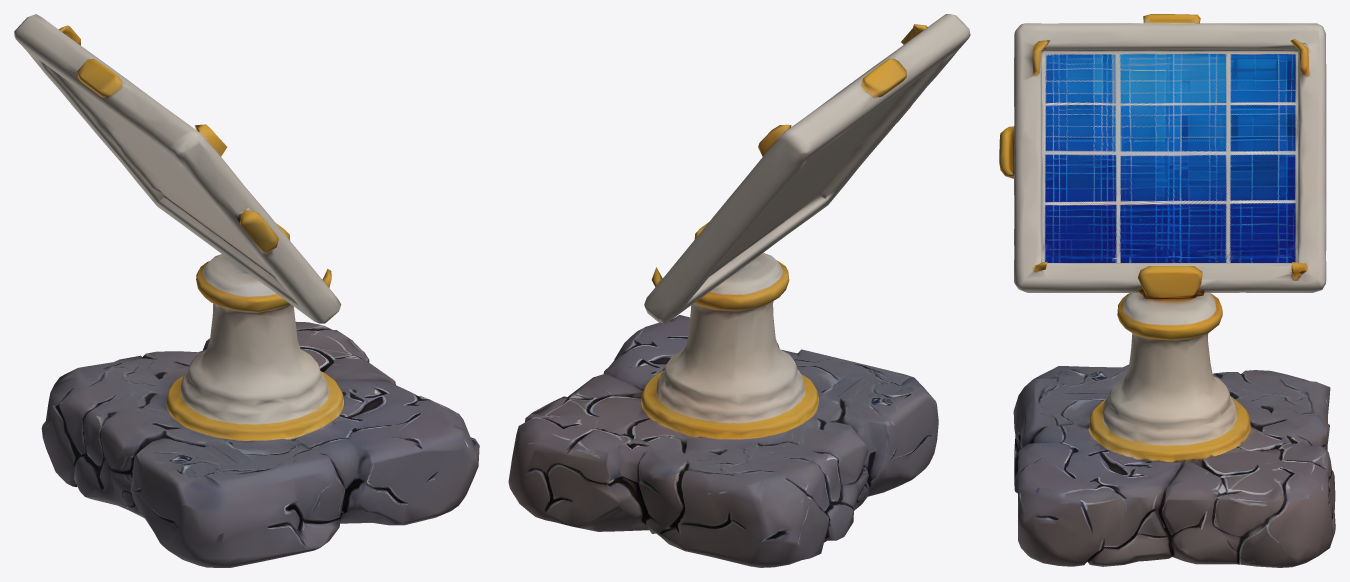
File: solar-panel-v2.glb
3 renders of one model, left to right at view 1: azimuth 30°, elevation 25°; view 2: azimuth 150°, elevation 25°; view 3: azimuth 270°, elevation 25°, orthographic. The views are drawn at different scales.
Parts seen in each view (by area): view 1: tripo_node_062702b2-c02d-4cd8-a46a-81f351917f09; view 2: tripo_node_062702b2-c02d-4cd8-a46a-81f351917f09; view 3: tripo_node_062702b2-c02d-4cd8-a46a-81f351917f09.
Boxes of the visible parts, x1,y1,x2,y2 form: tripo_node_062702b2-c02d-4cd8-a46a-81f351917f09: [14, 14, 479, 567]; tripo_node_062702b2-c02d-4cd8-a46a-81f351917f09: [508, 14, 970, 567]; tripo_node_062702b2-c02d-4cd8-a46a-81f351917f09: [999, 14, 1335, 567].
Bounding box in the file's own units: 0.7436 × 1 × 0.7205.
1 material, 1 textured.
